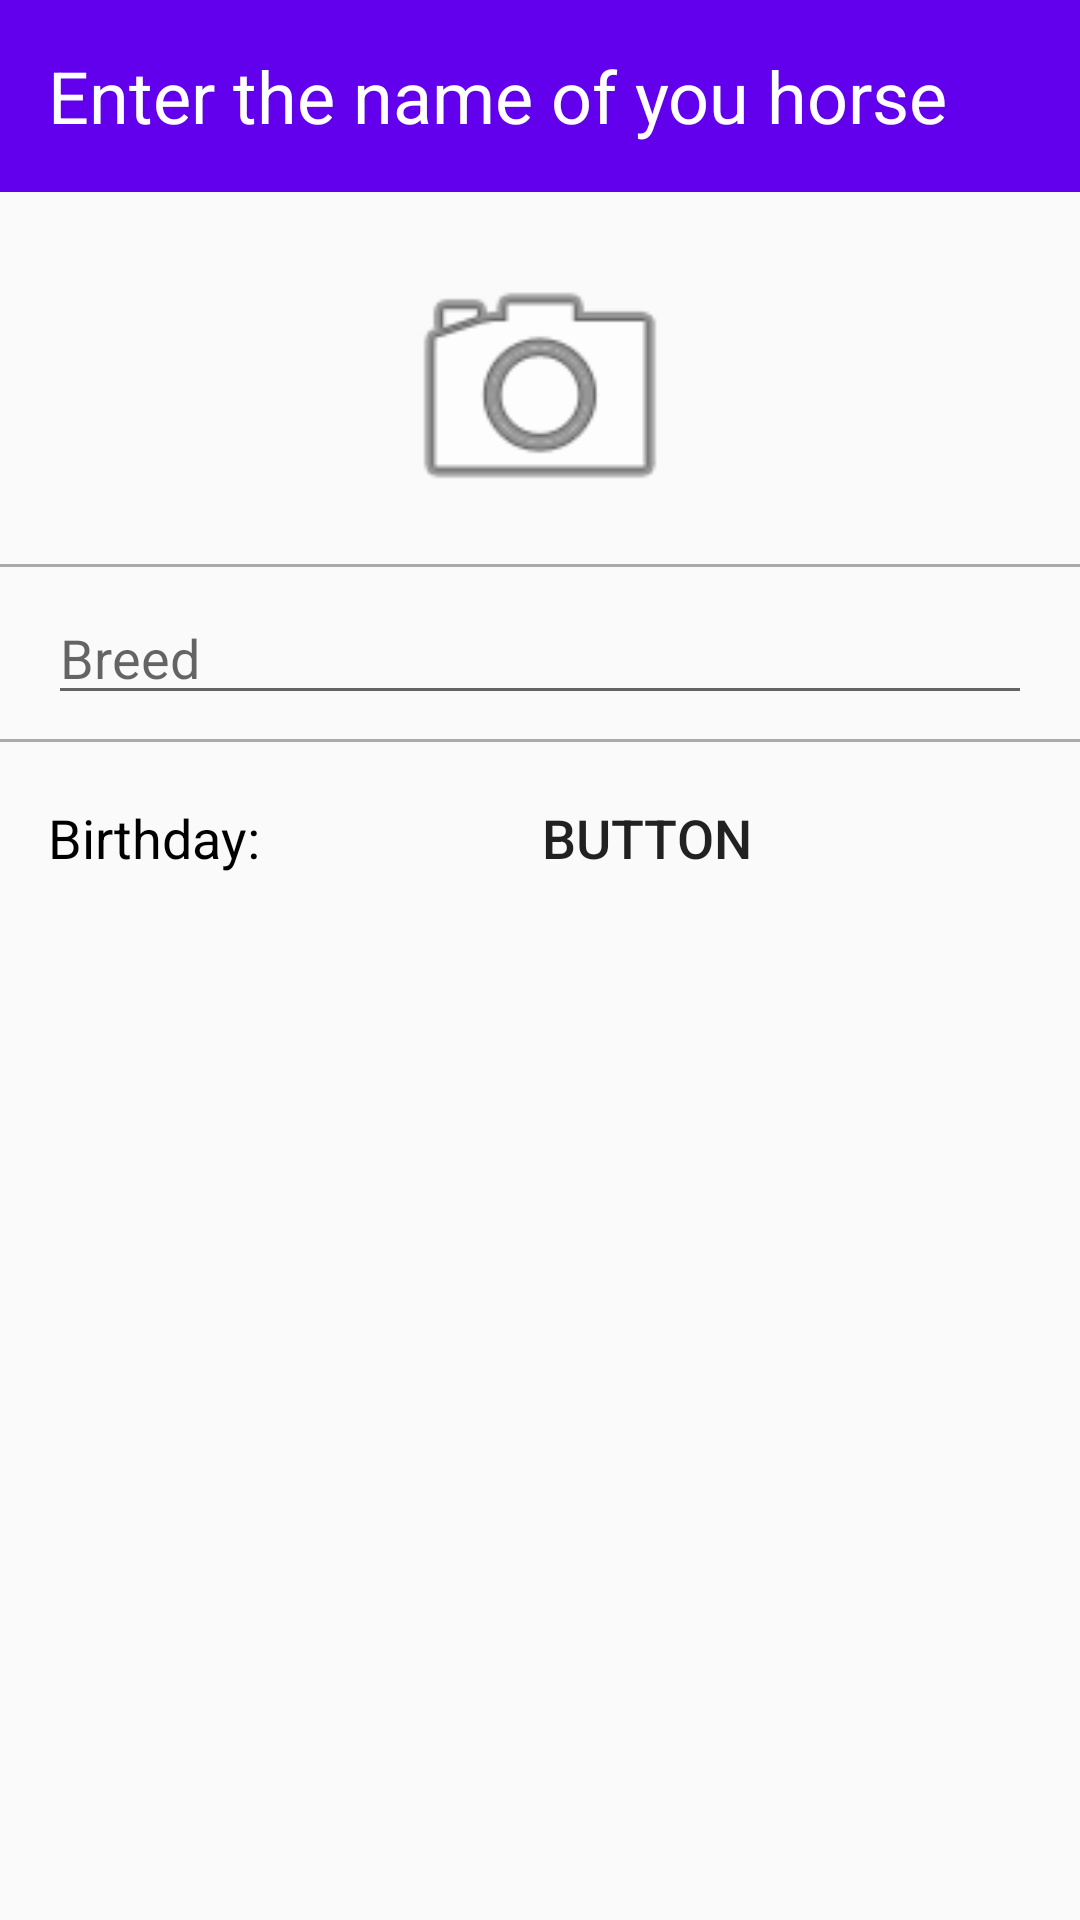

Where to tap for icons on this 1080×1920 app screen, as point (x, y):
Add a Picture of your horse: point (540, 385)
